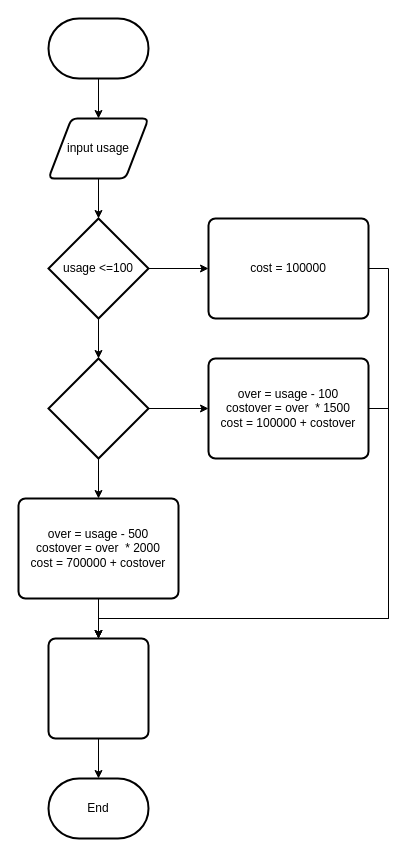
The diagram is 414 pixels wide and 856 high, and some of its shapes have lost their labels. Each missing label, with the box of its shape:
print cost: (47, 637, 149, 739)
Start: (47, 17, 149, 79)
usage <= 500: (47, 357, 149, 459)
